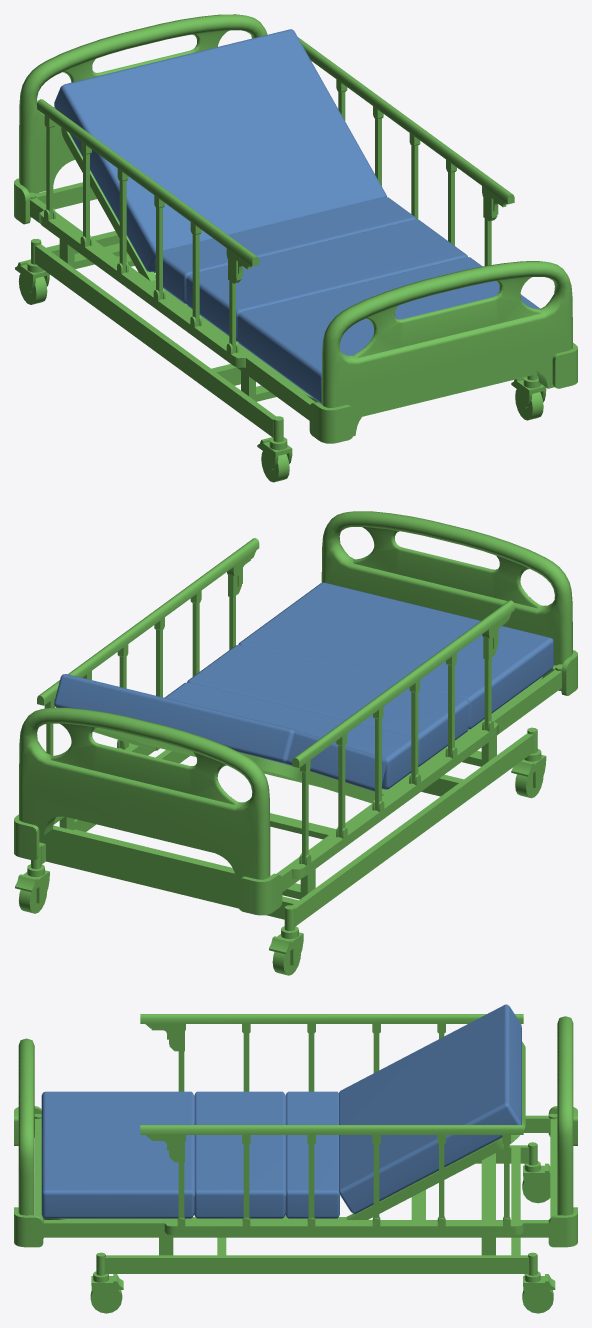
The model's file is SM_HospitalBed_02c.FBX.
The picture shows the model from 3 angles, top to bottom: view 1: azimuth 30°, elevation 25°; view 2: azimuth 150°, elevation 25°; view 3: azimuth 270°, elevation 25°; orthographic projection. The views are drawn at different scales.
Parts seen in each view (by area): view 1: SM_HospitalBed_02c_LOD0; view 2: SM_HospitalBed_02c_LOD0; view 3: SM_HospitalBed_02c_LOD0.
Boxes of the visible parts, x1,y1,x2,y2 form: SM_HospitalBed_02c_LOD0: (14, 14, 577, 482); SM_HospitalBed_02c_LOD0: (14, 511, 577, 975); SM_HospitalBed_02c_LOD0: (14, 1004, 577, 1313).
Size of what is drawn, in the model's own units: 109 by 89.09 by 221.
